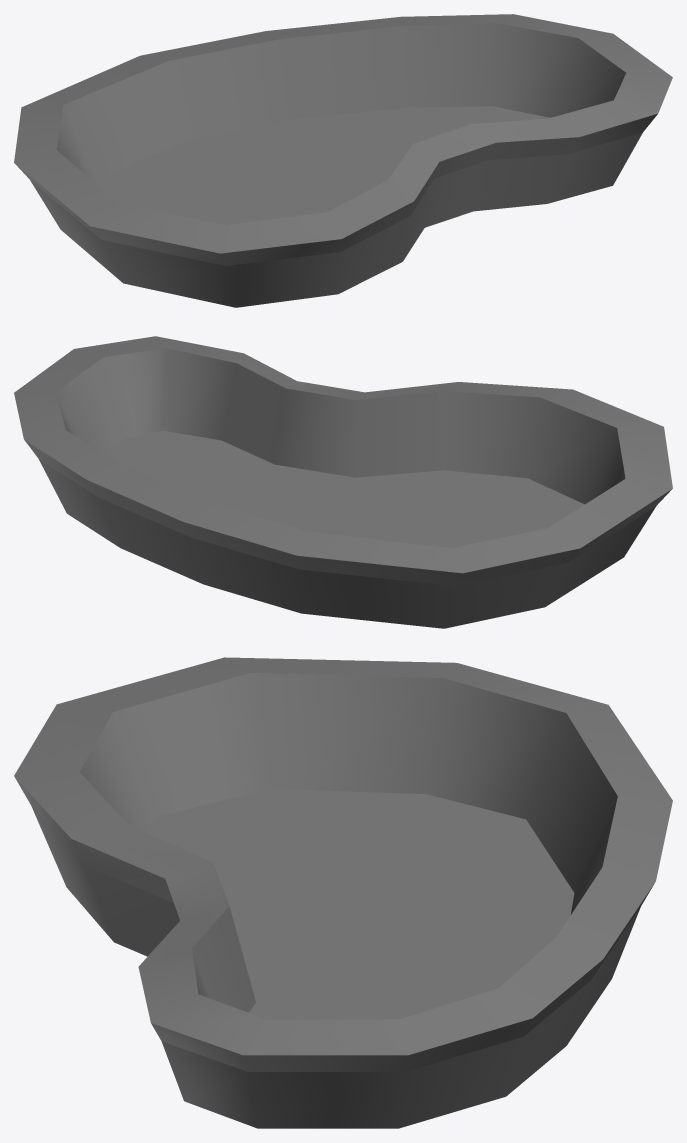
The model's file is Tray 02.fbx.
3 renders of one model, top to bottom at view 1: azimuth 30°, elevation 25°; view 2: azimuth 150°, elevation 25°; view 3: azimuth 270°, elevation 25°, orthographic. The views are drawn at different scales.
Visible parts, largest first — view 1: Tray_02; view 2: Tray_02; view 3: Tray_02.
Part boxes in pixels (bbox=[...]): Tray_02: bbox=[14, 14, 672, 307]; Tray_02: bbox=[14, 336, 672, 628]; Tray_02: bbox=[14, 657, 672, 1128].
Bounding box in the file's own units: 59.72 × 7.76 × 41.8.
